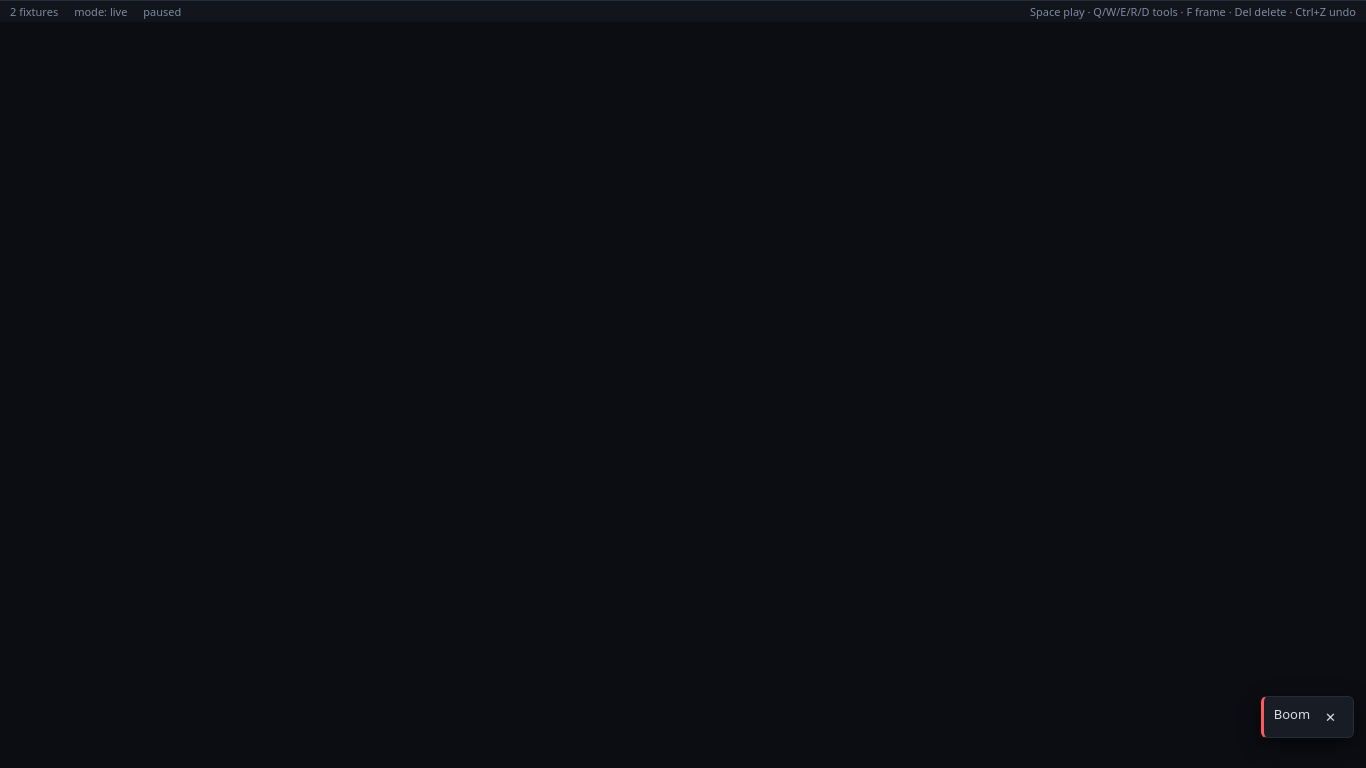
Test: panels › StatusBar and Notices
Expected: the text "2 fixtures" is shown, [10, 4, 58, 19]
Expected: the message shows "Boom", [1274, 705, 1310, 723]
Click the button named "dismiss" at (1331, 717), box [1318, 705, 1343, 729]
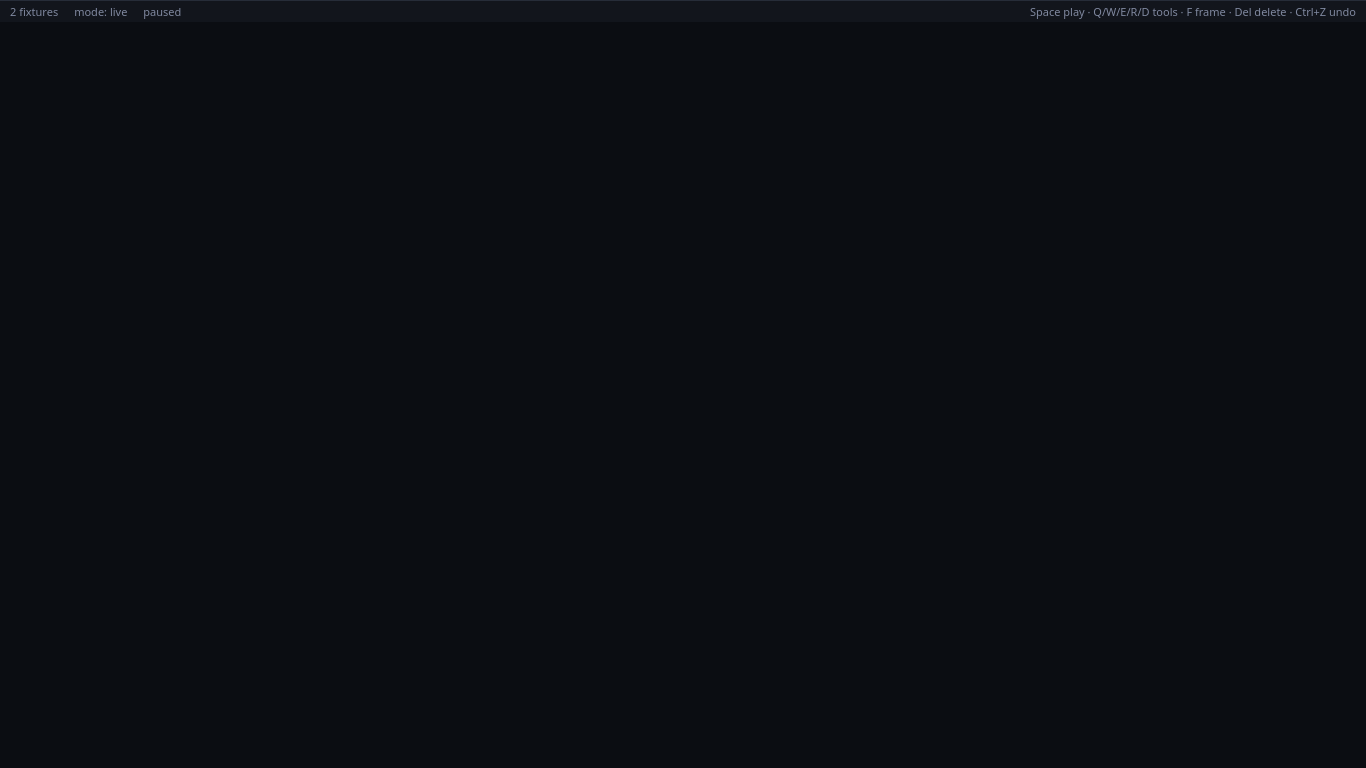
Expected: the message "Boom ✕" is gone
